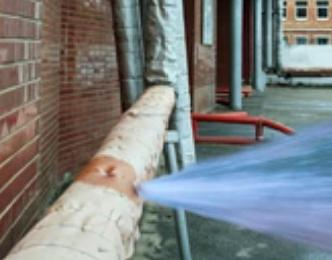pipe burst: (130, 119, 332, 260)
